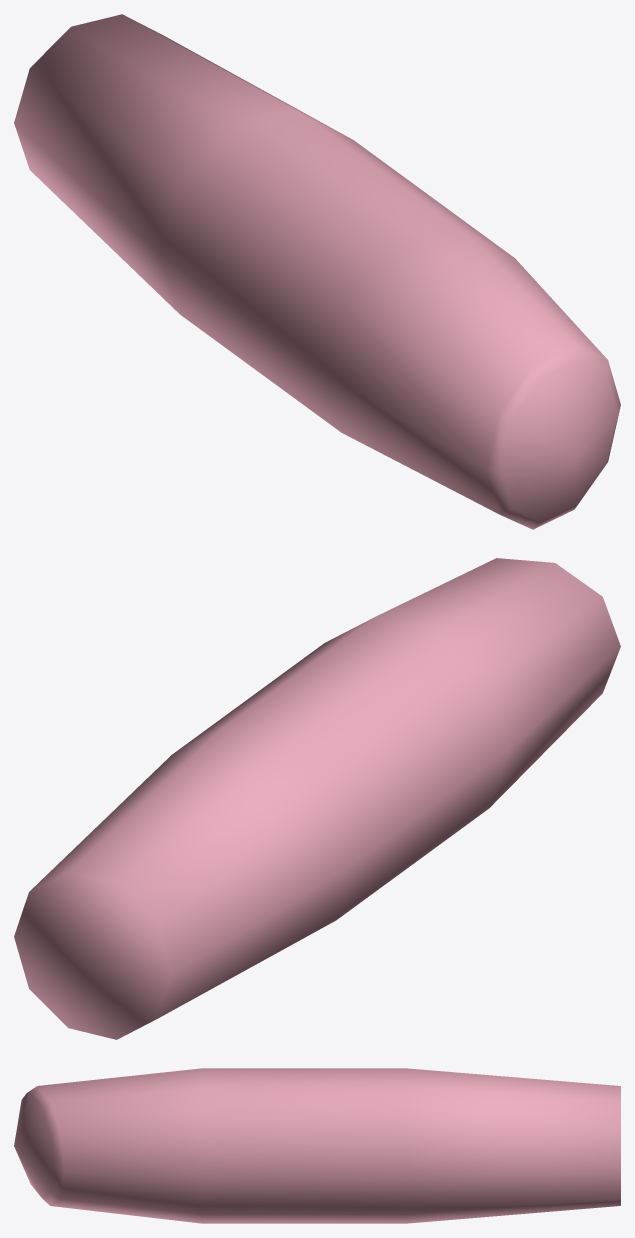
File: Cigar.fbx
The picture shows the model from 3 angles, top to bottom: view 1: azimuth 30°, elevation 25°; view 2: azimuth 150°, elevation 25°; view 3: azimuth 270°, elevation 25°; orthographic projection. The views are drawn at different scales.
Parts seen in each view (by area): view 1: Cigar; view 2: Cigar; view 3: Cigar.
Part boxes in pixels (bbox=[...]): Cigar: bbox=[14, 14, 620, 529]; Cigar: bbox=[14, 558, 620, 1039]; Cigar: bbox=[14, 1068, 620, 1223].
Bounding box in the file's own units: 2.86 × 2.72 × 11.1.
